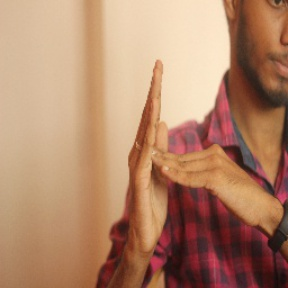Z: (116, 54, 264, 262)
